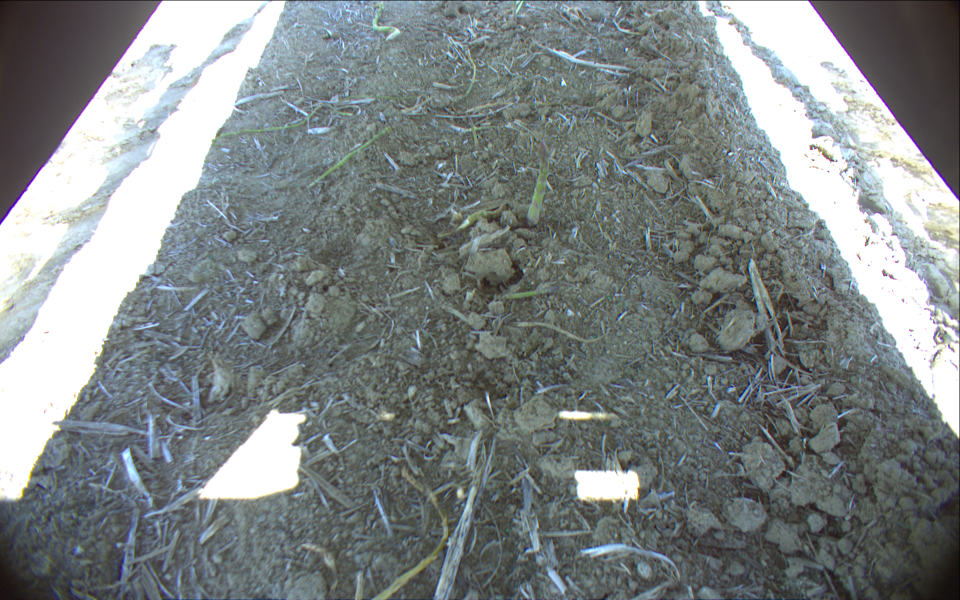aspa: (525, 137, 553, 225)
